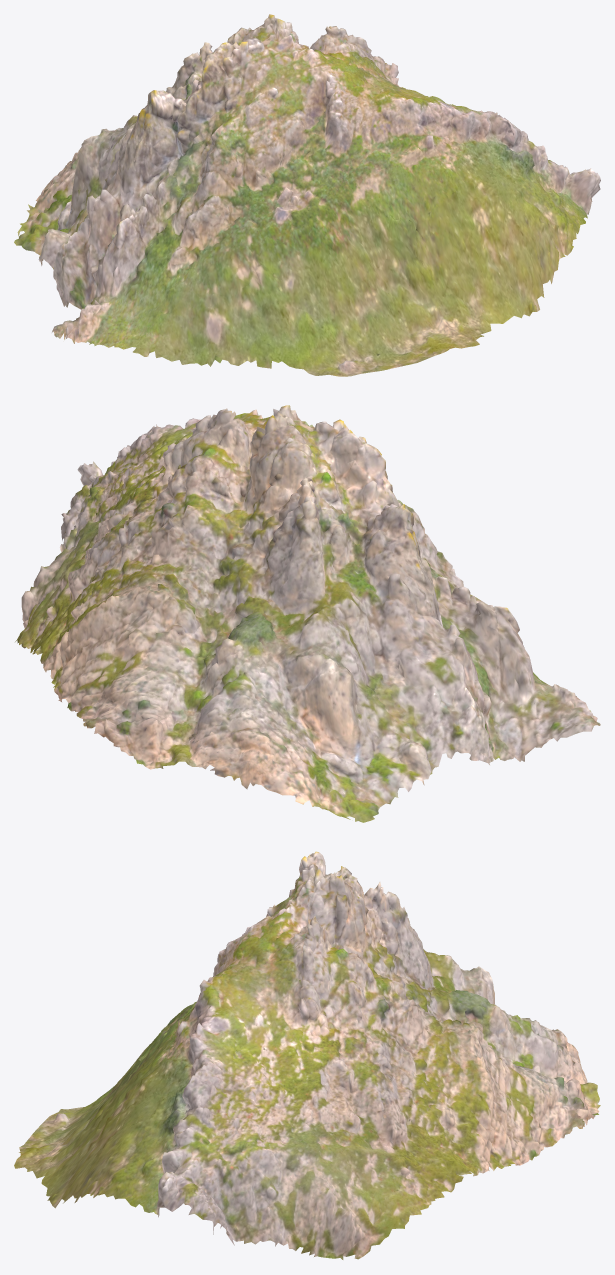
File: mountain.glb
3 views of the same model, one above another, from view 1: azimuth 30°, elevation 25°; view 2: azimuth 150°, elevation 25°; view 3: azimuth 270°, elevation 25° (orthographic). The views are drawn at different scales.
Visible parts, largest first — view 1: Object_4; view 2: Object_4; view 3: Object_4.
Boxes of the visible parts, left/top/right/bottom form: Object_4: left=14, top=14, right=600, bottom=376; Object_4: left=15, top=405, right=600, bottom=822; Object_4: left=14, top=851, right=600, bottom=1259.
Bounding box in the file's own units: 49.81 × 25.51 × 45.99.
Materials: 1 (1 with a texture image).
